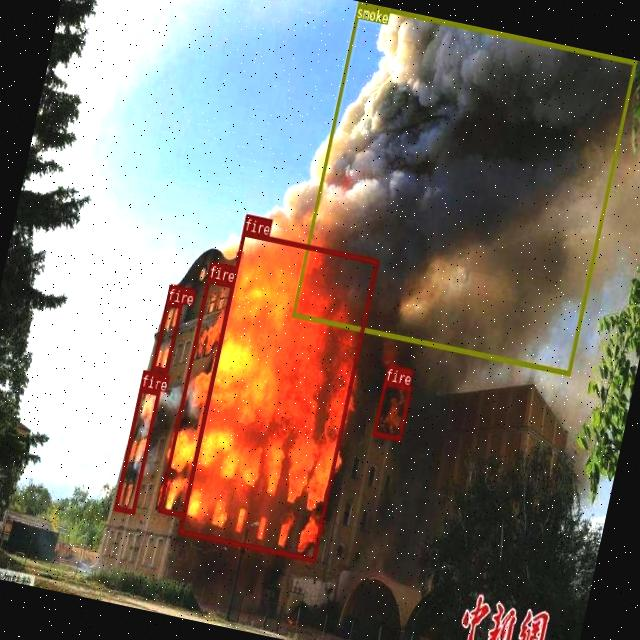fire: (178, 230, 377, 561), (157, 276, 233, 516), (112, 386, 160, 514), (372, 379, 411, 440), (151, 299, 182, 372)
smoke: (290, 1, 636, 374)
